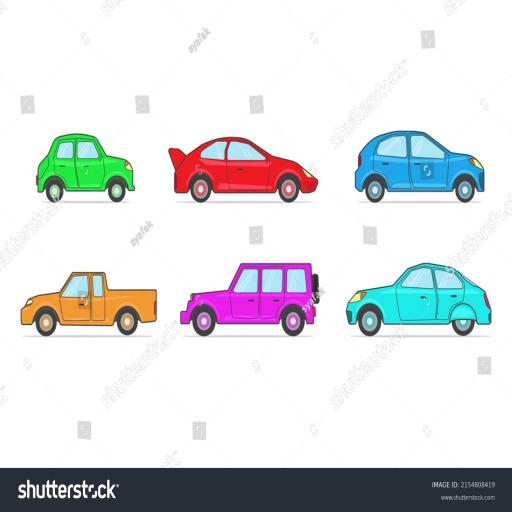Sedan-sDLz: (346, 255, 495, 349), (168, 137, 318, 202), (353, 130, 484, 203)
hatchback: (30, 126, 136, 203)
pickup: (17, 265, 159, 337)
suv: (181, 259, 328, 341)
